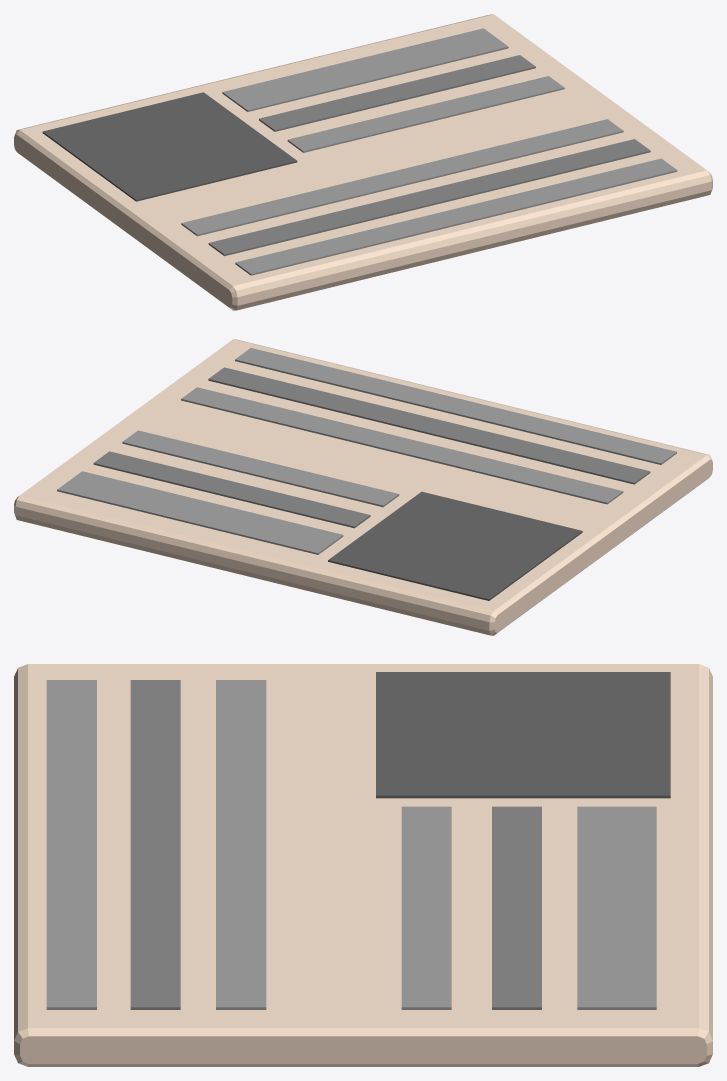
The model's file is Prop_Magazine.fbx.
3 views of the same model, one above another, from view 1: azimuth 30°, elevation 25°; view 2: azimuth 150°, elevation 25°; view 3: azimuth 270°, elevation 25° (orthographic). The views are drawn at different scales.
Visible parts, largest first — view 1: Prop_Magazine; view 2: Prop_Magazine; view 3: Prop_Magazine.
Boxes of the visible parts, left/top/right/bottom form: Prop_Magazine: left=14, top=14, right=712, bottom=310; Prop_Magazine: left=14, top=339, right=712, bottom=635; Prop_Magazine: left=14, top=664, right=712, bottom=1066.
Bounding box in the file's own units: 80 × 4.18 × 64.
